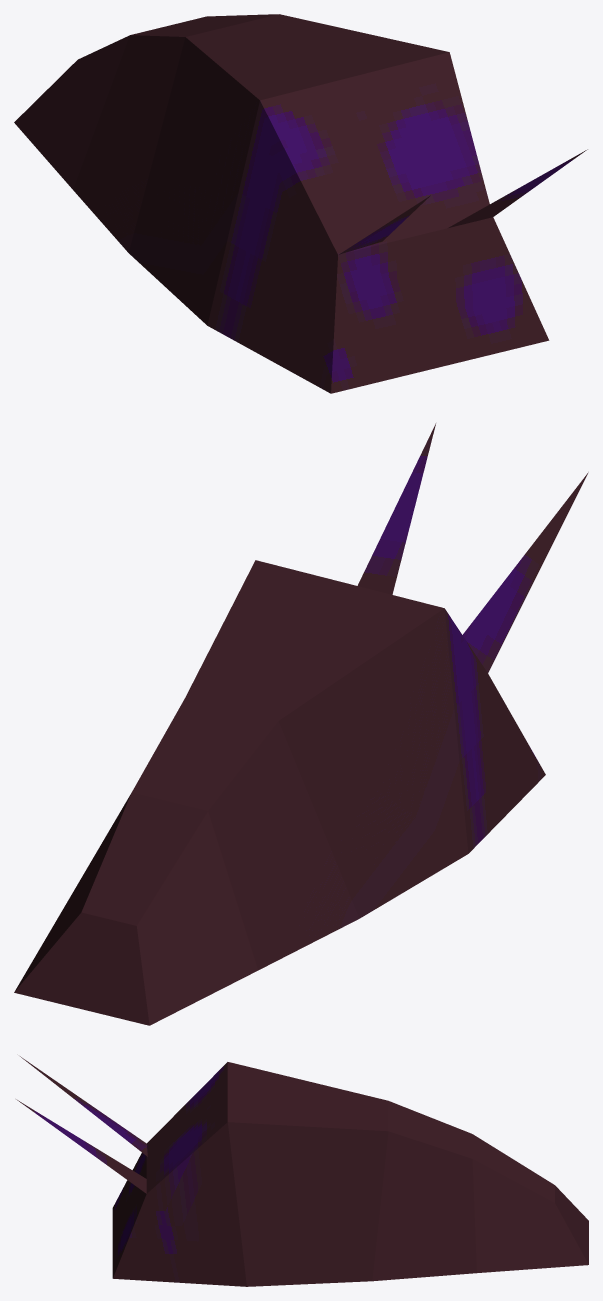
Rendered from slug.obj.
The picture shows the model from 3 angles, top to bottom: view 1: azimuth 30°, elevation 25°; view 2: azimuth 150°, elevation 25°; view 3: azimuth 270°, elevation 25°; orthographic projection. The views are drawn at different scales.
Visible parts, largest first — view 1: SWP_SLUG; view 2: SWP_SLUG; view 3: SWP_SLUG.
Boxes of the visible parts, x1,y1,x2,y2 form: SWP_SLUG: [14, 14, 587, 393]; SWP_SLUG: [14, 423, 588, 1025]; SWP_SLUG: [16, 1056, 588, 1286].
Bounding box in the file's own units: 2.61 × 2.38 × 7.31.
Materials: 1 (1 with a texture image).
